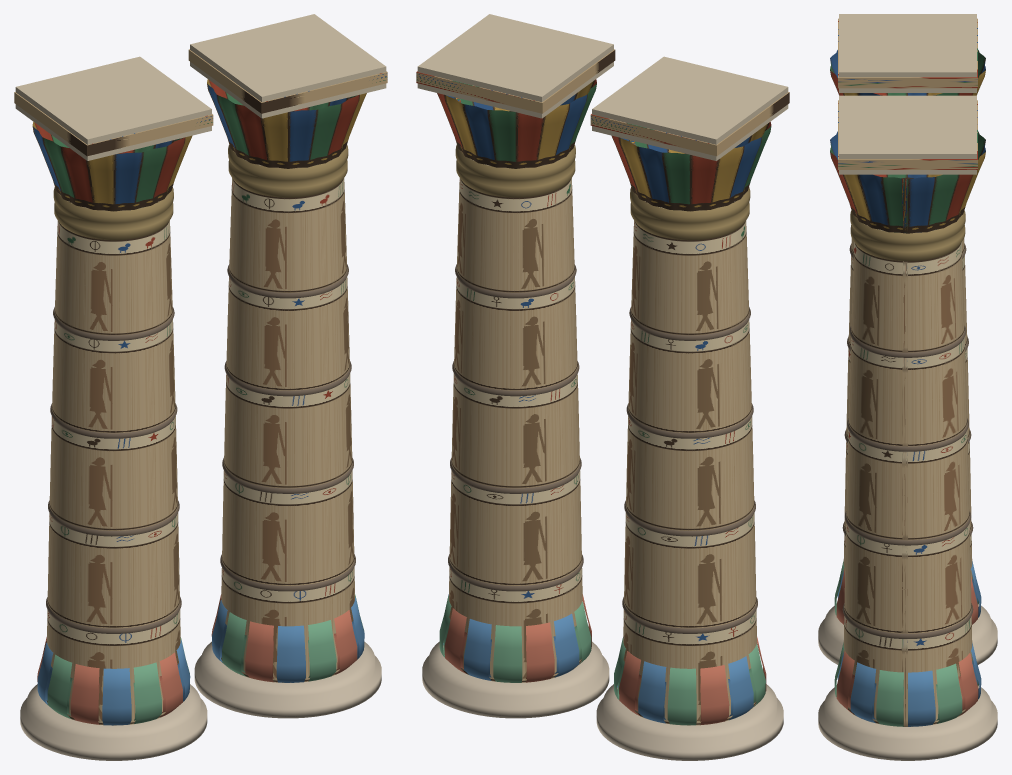
The model's file is sy-egyptian-column-pair.glb.
3 views of the same model, side by side, from view 1: azimuth 30°, elevation 25°; view 2: azimuth 150°, elevation 25°; view 3: azimuth 270°, elevation 25° (orthographic). The views are drawn at different scales.
Parts seen in each view (by area): view 1: Shaft_R, Shaft_L, Abacus_R, Abacus_L, Capital_L, Capital_R, Plinth_R, Plinth_L, Necking_R, Necking_L, AbacusBand_L, AbacusBand_R (+18 smaller); view 2: Shaft_L, Shaft_R, Abacus_R, Abacus_L, Capital_L, Capital_R, Plinth_R, Plinth_L, Necking_R, Necking_L, AbacusBand_L, AbacusBand_R (+20 smaller); view 3: Shaft_R, Abacus_L, Abacus_R, Capital_R, Plinth_R, Necking_R, Plinth_L, AbacusBand_L, AbacusBand_R, Shaft_L, Petals1_13_R, Petals0_0_R (+9 smaller).
Boxes of the visible parts, box(x1,y1,x2,y2) form: Shaft_R: box(220, 159, 354, 682); Shaft_L: box(46, 202, 180, 725); Abacus_R: box(190, 14, 386, 118); Abacus_L: box(15, 56, 211, 160); Capital_L: box(32, 122, 192, 211); Capital_R: box(207, 79, 366, 168); Plinth_R: box(194, 641, 381, 718); Plinth_L: box(20, 684, 207, 760); Necking_R: box(228, 144, 348, 197); Necking_L: box(53, 187, 173, 240); AbacusBand_L: box(14, 92, 213, 156); AbacusBand_R: box(188, 49, 387, 113); Shaft_L: box(623, 202, 756, 725); Shaft_R: box(449, 159, 582, 682); Abacus_R: box(417, 14, 613, 118); Abacus_L: box(592, 56, 788, 160); Capital_L: box(611, 122, 771, 211); Capital_R: box(437, 79, 596, 168); Plinth_R: box(422, 641, 609, 718); Plinth_L: box(596, 684, 783, 760); Necking_R: box(455, 144, 575, 197); Necking_L: box(630, 187, 750, 240); AbacusBand_L: box(590, 92, 789, 156); AbacusBand_R: box(416, 49, 615, 113); Shaft_R: box(843, 224, 972, 726); Abacus_L: box(839, 14, 976, 92); Abacus_R: box(839, 95, 976, 174); Capital_R: box(830, 131, 985, 233); Plinth_R: box(818, 685, 997, 760); Necking_R: box(850, 210, 965, 261); Plinth_L: box(818, 604, 997, 664); AbacusBand_L: box(838, 18, 977, 88); AbacusBand_R: box(838, 100, 977, 169); Shaft_L: box(843, 238, 972, 580); Petals1_13_R: box(876, 670, 903, 726); Petals0_0_R: box(908, 670, 935, 726).
Bounding box in the file's own units: 3.57 × 6.32 × 1.72.
Materials: 10 (3 with a texture image).
